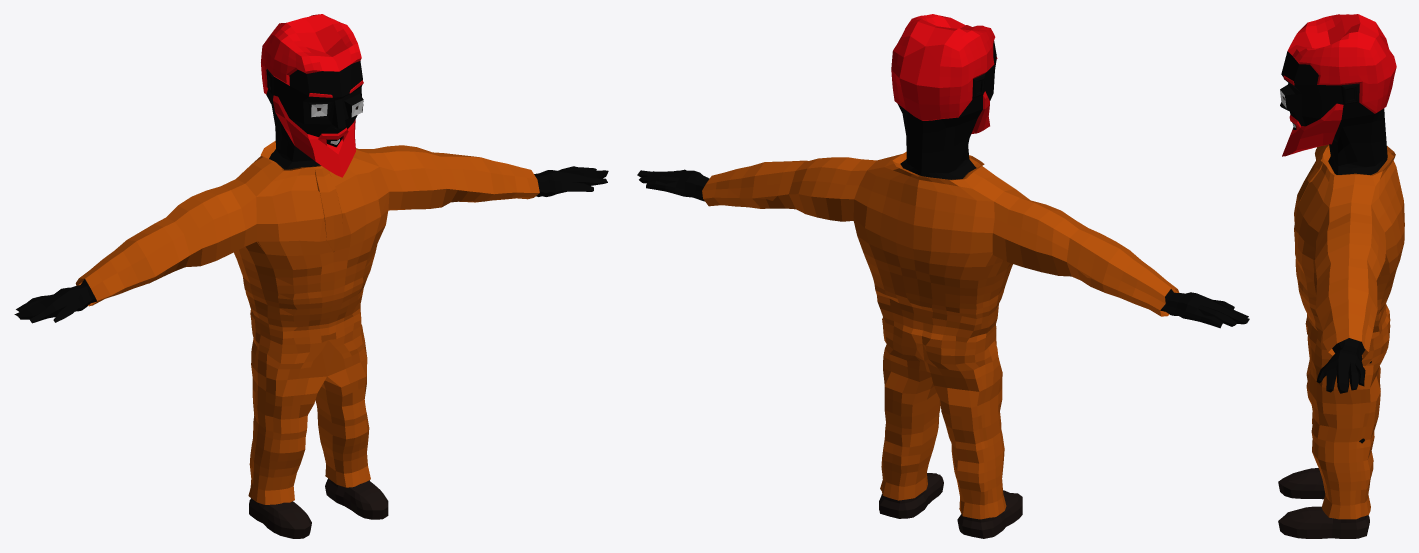
Rendered from zatovrenik 5.fbx.
3 renders of one model, left to right at view 1: azimuth 30°, elevation 25°; view 2: azimuth 150°, elevation 25°; view 3: azimuth 270°, elevation 25°, orthographic. The views are drawn at different scales.
Parts seen in each view (by area): view 1: ROBA.006, LIK1.007; view 2: ROBA.006, LIK1.007; view 3: ROBA.006, LIK1.007.
Part boxes in pixels (x1=…): ROBA.006: x1=75, y1=141, x2=539, y2=504; LIK1.007: x1=14, y1=14, x2=608, y2=538; ROBA.006: x1=702, y1=151, x2=1179, y2=519; LIK1.007: x1=637, y1=14, x2=1249, y2=538; ROBA.006: x1=1294, y1=144, x2=1404, y2=519; LIK1.007: x1=1278, y1=14, x2=1396, y2=538.
Bounding box in the file's own units: 1350 × 1053 × 247.
